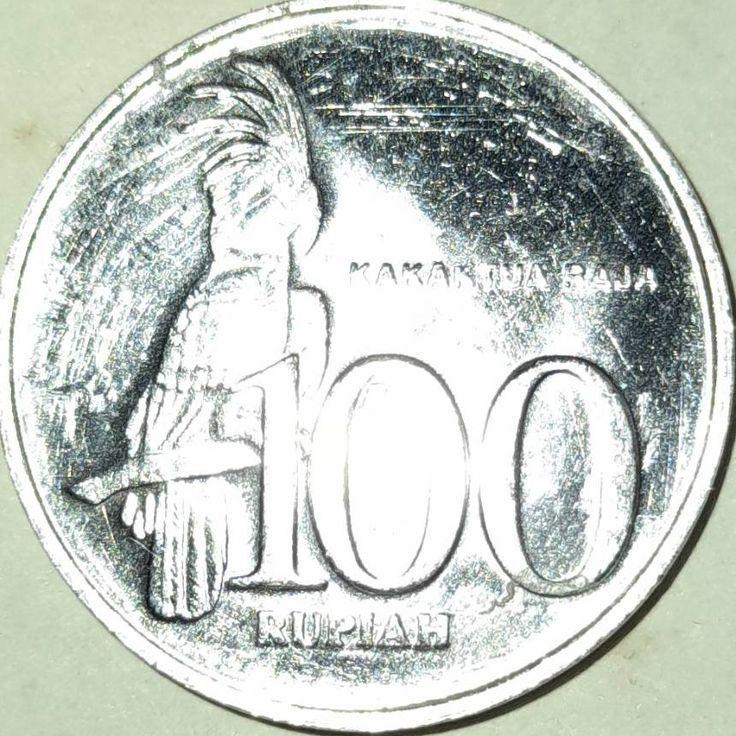coin_100_e1999: (6, 3, 736, 736)
